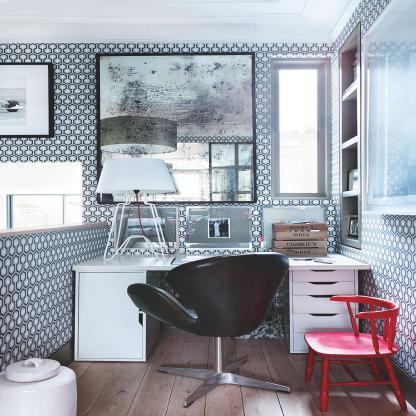chair: (123, 250, 291, 404), (299, 292, 408, 416), (0, 353, 84, 416)
light: (97, 117, 181, 264)
table: (65, 248, 381, 364)
